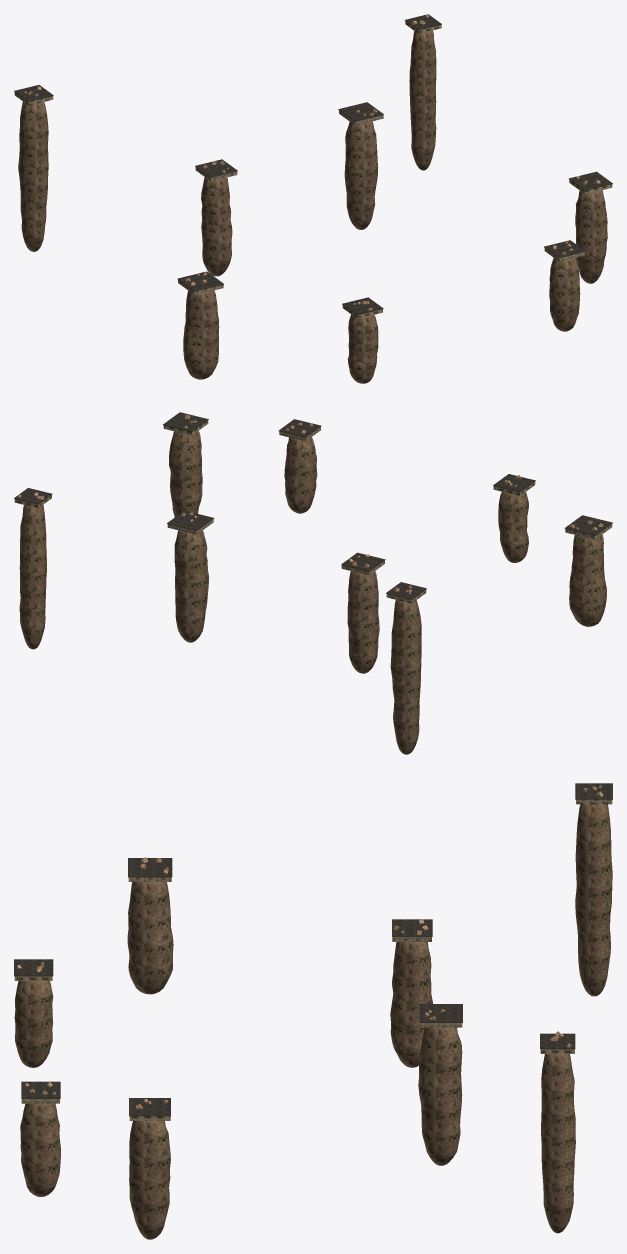
Rendered from Scenery.fbx.
3 renders of one model, top to bottom at view 1: azimuth 30°, elevation 25°; view 2: azimuth 150°, elevation 25°; view 3: azimuth 270°, elevation 25°, orthographic. The views are drawn at different scales.
Visible parts, largest first — view 1: Scenery_Rock_6_LOD0, Scenery_Rock_7_LOD0, Scenery_Rock_1_LOD0, Scenery_Rock_2_LOD0, Scenery_Rock_0_LOD0, Scenery_Rock_3_LOD0, Scenery_Rock_5_LOD0, Scenery_Rock_4_LOD0, Scenery_Base_2_LOD0, Scenery_Base_1_LOD0, Scenery_Base_3_LOD0, Scenery_Base_0_LOD0 (+3 smaller); view 2: Scenery_Rock_6_LOD0, Scenery_Rock_7_LOD0, Scenery_Rock_1_LOD0, Scenery_Rock_2_LOD0, Scenery_Rock_0_LOD0, Scenery_Rock_3_LOD0, Scenery_Rock_5_LOD0, Scenery_Rock_4_LOD0, Scenery_Base_2_LOD0, Scenery_Base_1_LOD0, Scenery_Base_3_LOD0, Scenery_Base_0_LOD0 (+4 smaller); view 3: Scenery_Rock_6_LOD0, Scenery_Rock_7_LOD0, Scenery_Rock_1_LOD0, Scenery_Rock_2_LOD0, Scenery_Rock_3_LOD0, Scenery_Rock_0_LOD0, Scenery_Rock_5_LOD0, Scenery_Rock_4_LOD0, Scenery_Base_2_LOD0, Scenery_Base_1_LOD0, Scenery_Base_3_LOD0, Scenery_Base_0_LOD0 (+4 smaller).
Part boxes in pixels (x1,y1,x2,y2): Scenery_Rock_6_LOD0: [18, 101, 48, 251]; Scenery_Rock_7_LOD0: [409, 30, 436, 170]; Scenery_Rock_1_LOD0: [344, 121, 378, 229]; Scenery_Rock_2_LOD0: [183, 290, 219, 379]; Scenery_Rock_0_LOD0: [201, 177, 232, 276]; Scenery_Rock_3_LOD0: [575, 190, 607, 283]; Scenery_Rock_5_LOD0: [549, 258, 580, 331]; Scenery_Rock_4_LOD0: [347, 314, 378, 383]; Scenery_Base_2_LOD0: [177, 271, 223, 294]; Scenery_Base_1_LOD0: [338, 102, 383, 125]; Scenery_Base_3_LOD0: [568, 171, 612, 194]; Scenery_Base_0_LOD0: [195, 159, 237, 181]; Scenery_Rock_6_LOD0: [390, 600, 421, 754]; Scenery_Rock_7_LOD0: [19, 504, 46, 649]; Scenery_Rock_1_LOD0: [174, 530, 209, 642]; Scenery_Rock_2_LOD0: [569, 534, 606, 626]; Scenery_Rock_0_LOD0: [347, 571, 379, 673]; Scenery_Rock_3_LOD0: [169, 431, 202, 516]; Scenery_Rock_5_LOD0: [284, 437, 317, 513]; Scenery_Rock_4_LOD0: [498, 492, 528, 562]; Scenery_Base_2_LOD0: [564, 515, 612, 539]; Scenery_Base_1_LOD0: [167, 510, 214, 534]; Scenery_Base_3_LOD0: [163, 412, 208, 435]; Scenery_Base_0_LOD0: [341, 552, 385, 575]; Scenery_Rock_6_LOD0: [575, 804, 612, 996]; Scenery_Rock_7_LOD0: [541, 1054, 575, 1233]; Scenery_Rock_1_LOD0: [418, 1027, 462, 1165]; Scenery_Rock_2_LOD0: [127, 882, 173, 994]; Scenery_Rock_3_LOD0: [129, 1121, 170, 1239]; Scenery_Rock_0_LOD0: [390, 942, 432, 1067]; Scenery_Rock_5_LOD0: [20, 1103, 60, 1196]; Scenery_Rock_4_LOD0: [14, 981, 53, 1067]; Scenery_Base_2_LOD0: [128, 857, 172, 881]; Scenery_Base_1_LOD0: [419, 1004, 462, 1027]; Scenery_Base_3_LOD0: [129, 1098, 170, 1120]; Scenery_Base_0_LOD0: [392, 919, 432, 941].
Size of what is drawn, in the model's own units: 172 by 63.31 by 165.
